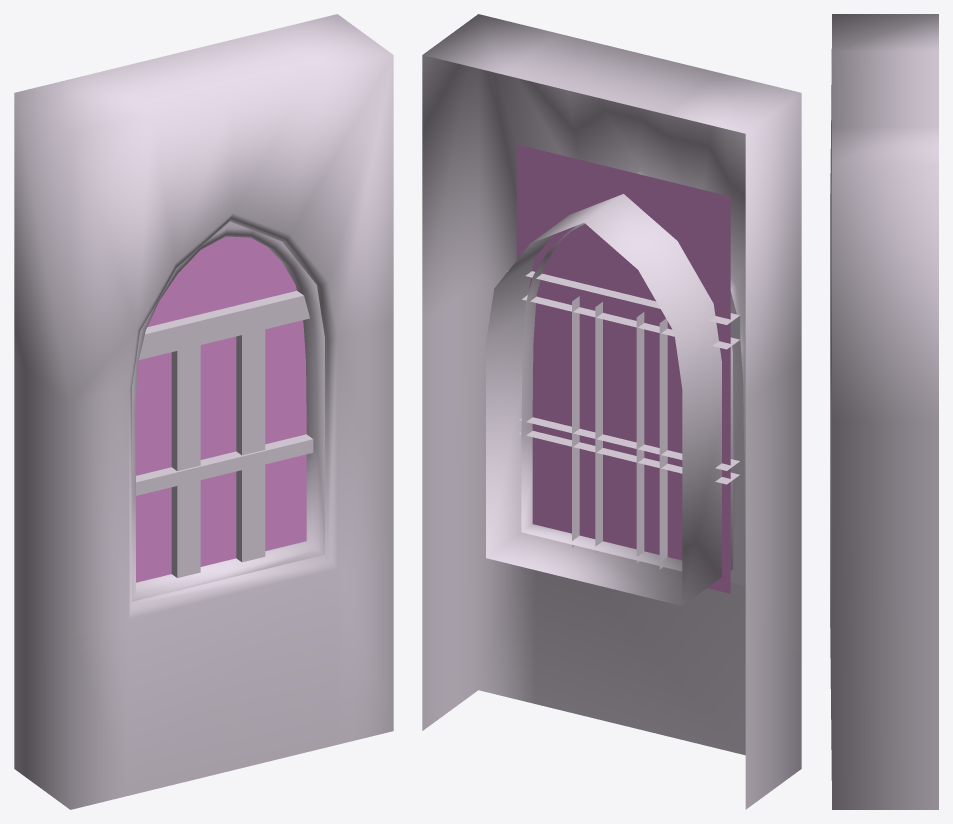
Rendered from JanelaInferiorArco.fbx.
3 renders of one model, left to right at view 1: azimuth 30°, elevation 25°; view 2: azimuth 150°, elevation 25°; view 3: azimuth 270°, elevation 25°, orthographic. The views are drawn at different scales.
Visible parts, largest first — view 1: ParedeArcoLow, VidroParedeInferiorGrades, ParedeInferiorGradesLow, JanelaInferiorBordaLow; view 2: ParedeArcoLow, VidroParedeInferiorGrades, ParedeInferiorGradesLow, JanelaInferiorBordaLow; view 3: ParedeArcoLow.
Part boxes in pixels (x1,y1,x2,y2): ParedeArcoLow: (14, 14, 393, 809); VidroParedeInferiorGrades: (135, 236, 306, 582); ParedeInferiorGradesLow: (136, 291, 313, 577); JanelaInferiorBordaLow: (132, 221, 324, 601); ParedeArcoLow: (422, 14, 801, 809); VidroParedeInferiorGrades: (516, 144, 730, 593); ParedeInferiorGradesLow: (507, 271, 740, 569); JanelaInferiorBordaLow: (521, 223, 744, 585); ParedeArcoLow: (830, 14, 938, 809).
Bounding box in the file's own units: 100 × 200 × 30.6.
